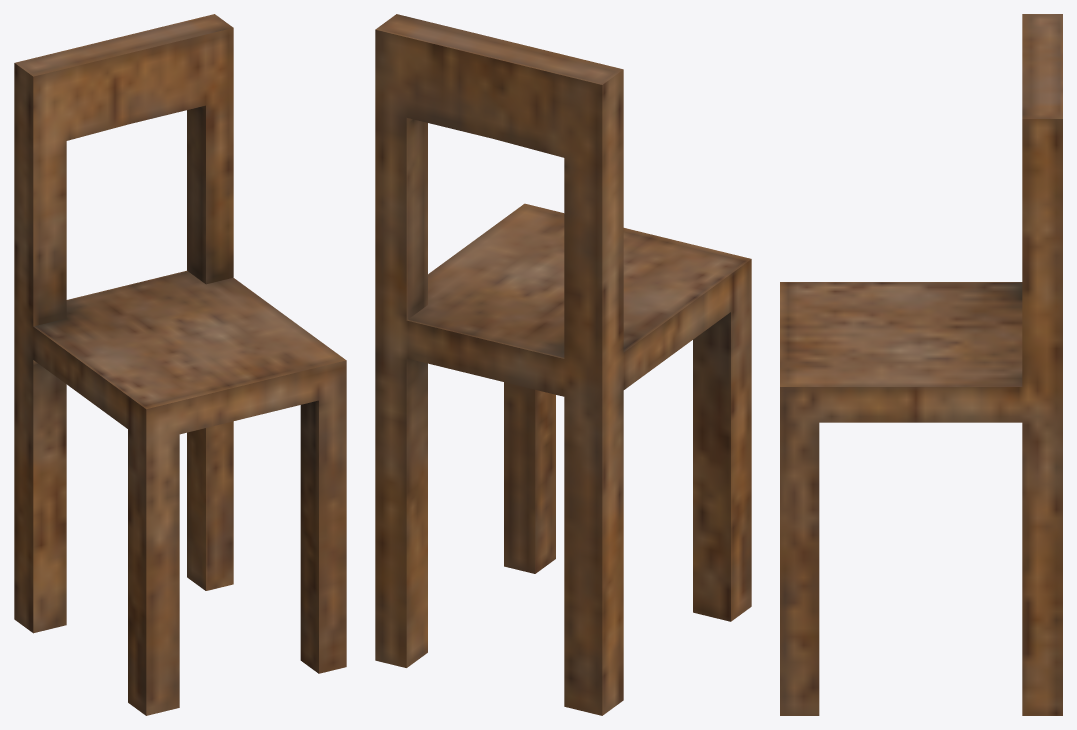
The model's file is chair.glb.
The picture shows the model from 3 angles, left to right: view 1: azimuth 30°, elevation 25°; view 2: azimuth 150°, elevation 25°; view 3: azimuth 270°, elevation 25°; orthographic projection. The views are drawn at different scales.
Parts seen in each view (by area): view 1: chair; view 2: chair; view 3: chair.
Boxes of the visible parts, <box> form: chair: <box>14,14,346,715</box>; chair: <box>375,14,751,715</box>; chair: <box>780,14,1062,715</box>.
Size of the model in its own units: 0.3536 by 0.939 by 0.4029.
Materials: 1 (1 with a texture image).
